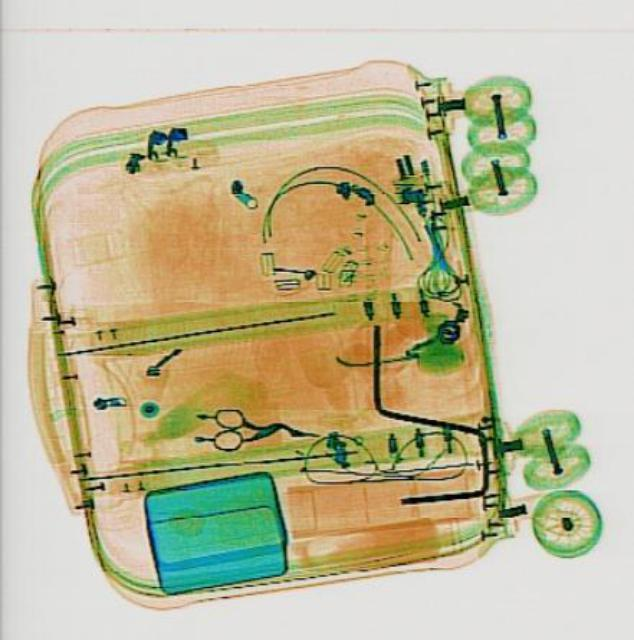Scissors: (209, 406, 313, 454)
